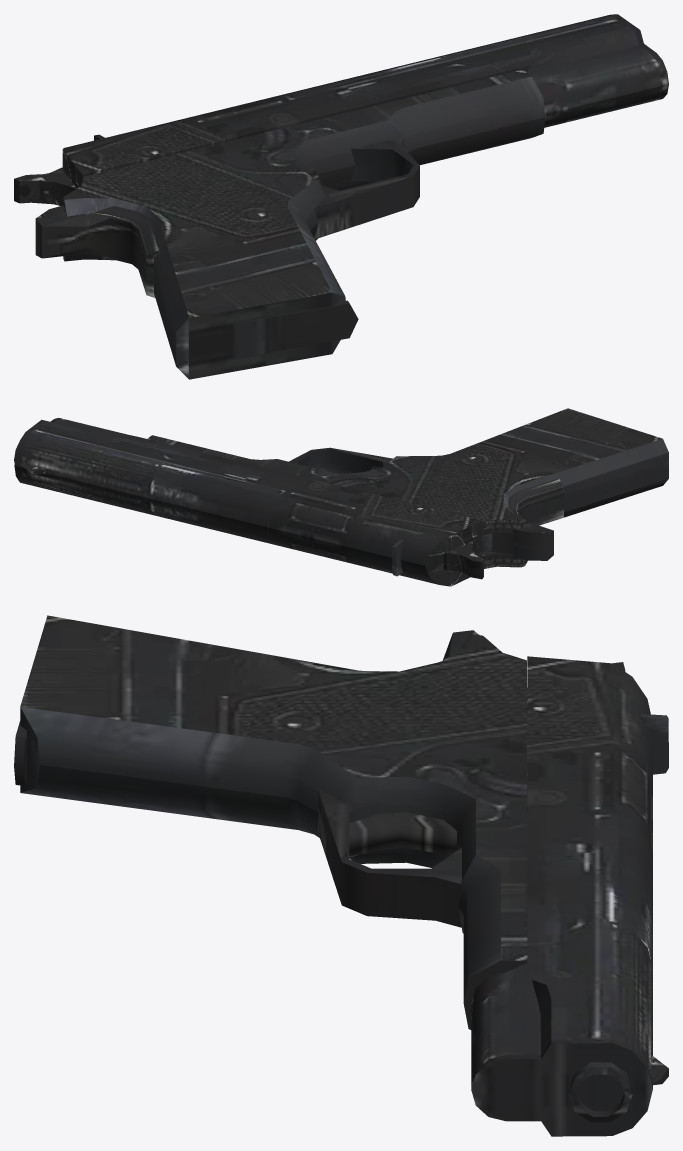
File: t5_weapon_1911_rh_world.glb
The picture shows the model from 3 angles, top to bottom: view 1: azimuth 30°, elevation 25°; view 2: azimuth 150°, elevation 25°; view 3: azimuth 270°, elevation 25°; orthographic projection. The views are drawn at different scales.
Visible parts, largest first — view 1: t5_weapon_1911_rh_world; view 2: t5_weapon_1911_rh_world; view 3: t5_weapon_1911_rh_world.
Boxes of the visible parts, <box> form: t5_weapon_1911_rh_world: <box>14,14,668,379</box>; t5_weapon_1911_rh_world: <box>14,408,668,586</box>; t5_weapon_1911_rh_world: <box>14,615,668,1136</box>.
Bounding box in the file's own units: 0.2293 × 0.0224 × 0.1429.
1 material, 1 textured.
